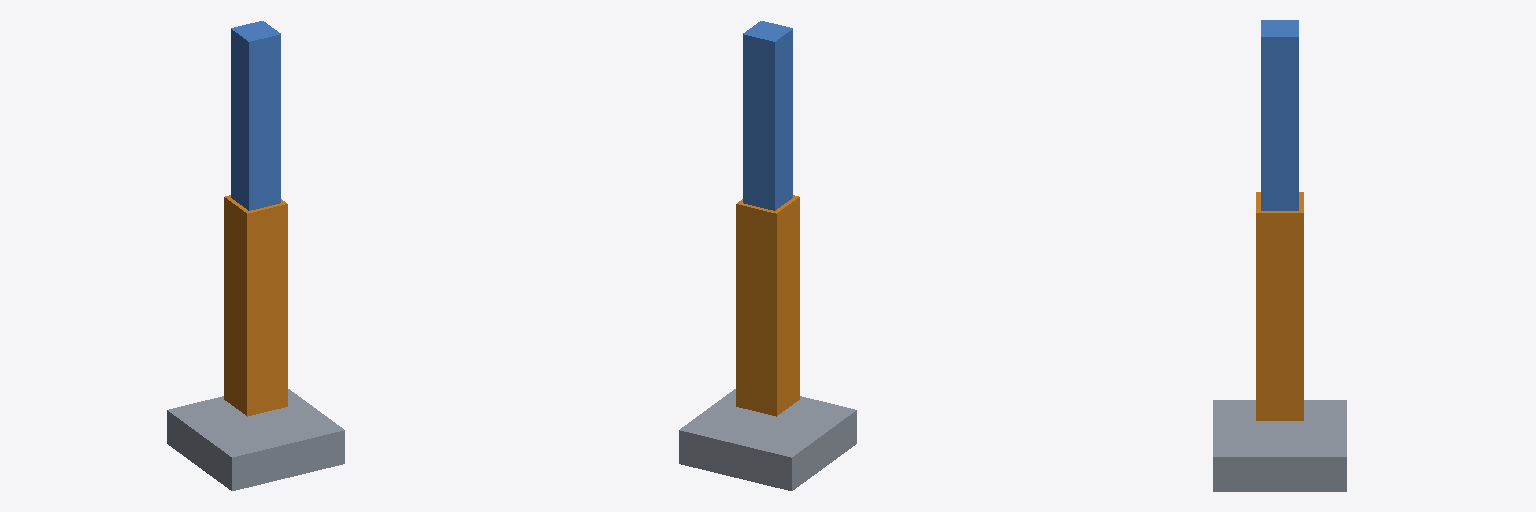
URDF robot description (servo_arm):
<?xml version="1.0"?>
<!--
  SERVO ARM (#313) — a 2-joint arm driven from MicroPython code. Bind GP0 →
  shoulder and GP1 → elbow in the Robot View's Servos panel (or use the bundled
  robot.yml), then Run sweep.py: each servo write animates the mapped joint live,
  headless in the simulator — no board needed.
-->
<robot name="servo_arm">
  <material name="steel"><color rgba="0.62 0.65 0.69 1"/></material>
  <material name="amber"><color rgba="0.85 0.55 0.18 1"/></material>
  <material name="blue"><color rgba="0.34 0.55 0.82 1"/></material>

  <link name="base">
    <visual><geometry><box size="0.14 0.14 0.04"/></geometry><material name="steel"/></visual>
  </link>
  <link name="upper_arm">
    <visual><origin xyz="0 0 0.12"/><geometry><box size="0.05 0.05 0.24"/></geometry><material name="amber"/></visual>
  </link>
  <link name="forearm">
    <visual><origin xyz="0 0 0.1"/><geometry><box size="0.04 0.04 0.2"/></geometry><material name="blue"/></visual>
  </link>

  <joint name="shoulder" type="revolute">
    <parent link="base"/><child link="upper_arm"/>
    <origin xyz="0 0 0.04"/><axis xyz="0 0 1"/>
    <limit lower="-1.5708" upper="1.5708" effort="1" velocity="1"/>
  </joint>
  <joint name="elbow" type="revolute">
    <parent link="upper_arm"/><child link="forearm"/>
    <origin xyz="0 0 0.24"/><axis xyz="0 1 0"/>
    <limit lower="-1.5708" upper="1.5708" effort="1" velocity="1"/>
  </joint>
</robot>

--- Facts derived from the render (not from the file) ---
Views: 3 orthographic renders of the robot side by side, from view 1: azimuth 30°, elevation 25°; view 2: azimuth 150°, elevation 25°; view 3: azimuth 270°, elevation 25°.
Robot: servo_arm — 3 links, 2 joints (2 revolute); root link base; default pose: every joint at zero.
Visible links, largest first — view 1: upper_arm, base, forearm; view 2: upper_arm, base, forearm; view 3: base, upper_arm, forearm.
Link boxes in pixels (x1,y1,x2,y2): upper_arm: (224,195,287,416); base: (167,389,344,490); forearm: (231,21,280,210); upper_arm: (736,195,799,416); base: (679,389,856,490); forearm: (743,21,792,210); base: (1213,400,1346,491); upper_arm: (1256,192,1303,420); forearm: (1261,20,1298,210).
Size in the robot's own frame: 0.14 by 0.14 by 0.5 metres.
Geometry: primitives only (box / cylinder / sphere), no mesh files.
